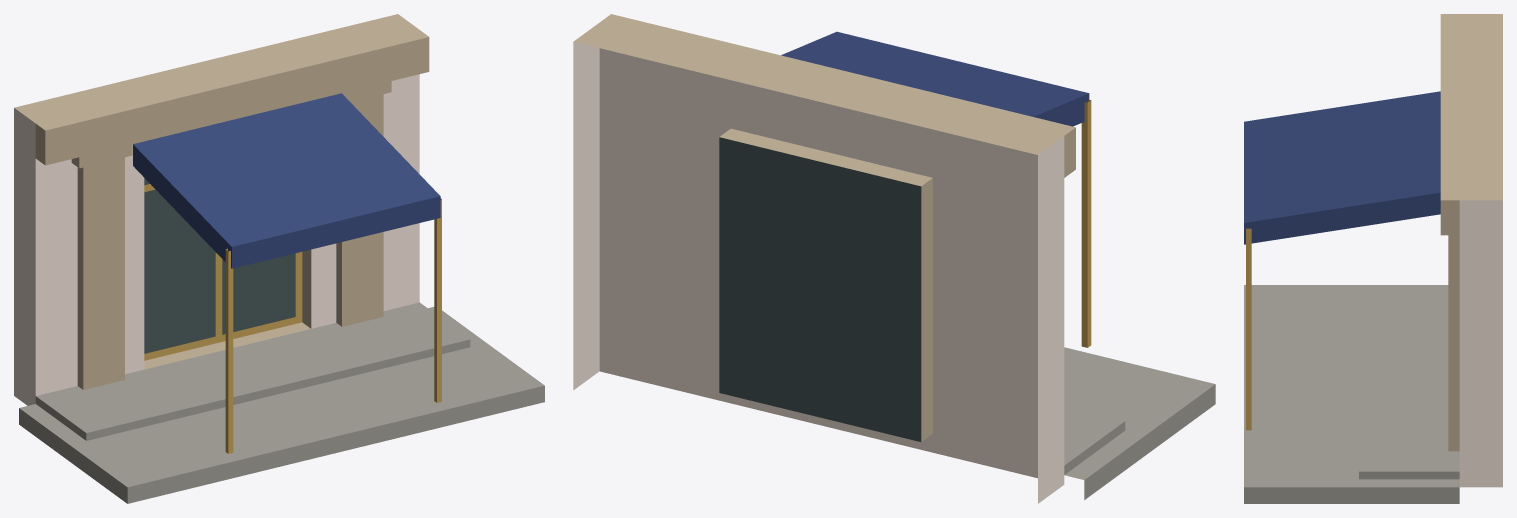
The model's file is entrance.fbx.
The picture shows the model from 3 angles, left to right: view 1: azimuth 30°, elevation 25°; view 2: azimuth 150°, elevation 25°; view 3: azimuth 270°, elevation 25°; orthographic projection. The views are drawn at different scales.
Visible parts, largest first — view 1: a2019/250/entrance; view 2: a2019/250/entrance; view 3: a2019/250/entrance.
Boxes of the visible parts, x1,y1,x2,y2 form: a2019/250/entrance: (14, 14, 544, 503); a2019/250/entrance: (573, 14, 1215, 503); a2019/250/entrance: (1244, 14, 1502, 503).
Bounding box in the file's own units: 5 × 3.4 × 2.7.
